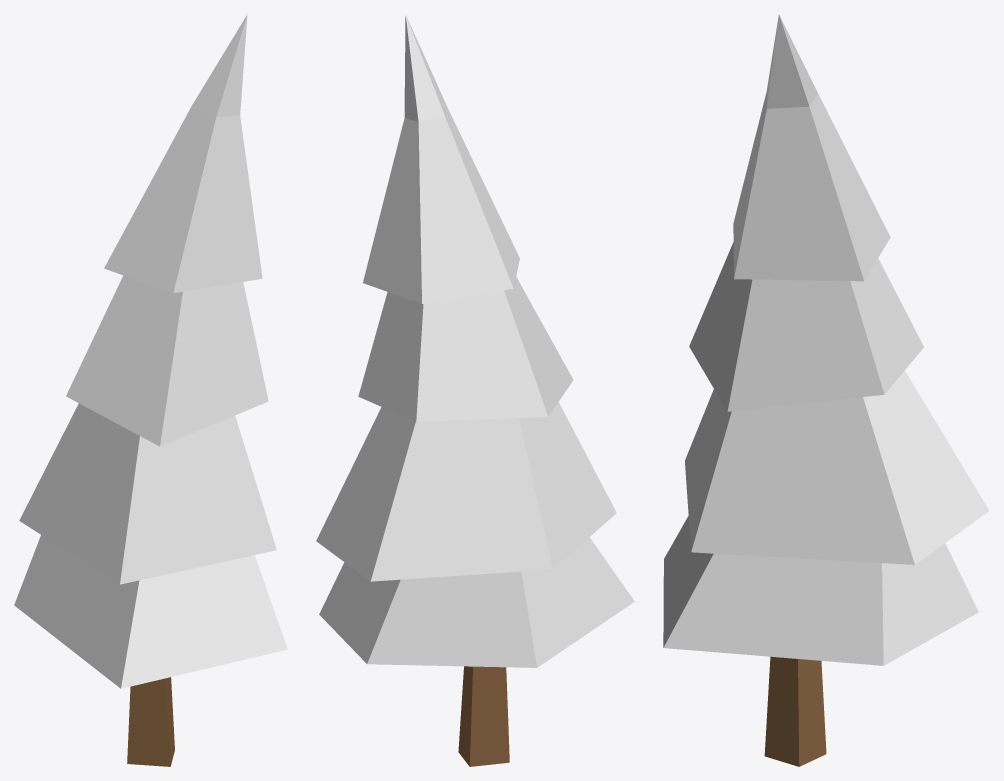
File: Fir_Tree_OneSided_m_Snow_11_LOD.fbx
The picture shows the model from 3 angles, left to right: view 1: azimuth 30°, elevation 25°; view 2: azimuth 150°, elevation 25°; view 3: azimuth 270°, elevation 25°; orthographic projection. The views are drawn at different scales.
Parts seen in each view (by area): view 1: Fir_Tree_OneSided_m_Snow_11_LOD0; view 2: Fir_Tree_OneSided_m_Snow_11_LOD0; view 3: Fir_Tree_OneSided_m_Snow_11_LOD0.
Part boxes in pixels (x1,y1,x2,y2): Fir_Tree_OneSided_m_Snow_11_LOD0: [14, 14, 287, 766]; Fir_Tree_OneSided_m_Snow_11_LOD0: [316, 15, 634, 766]; Fir_Tree_OneSided_m_Snow_11_LOD0: [663, 14, 989, 766].
Size of what is drawn, in the model's own units: 146 by 444 by 167.
